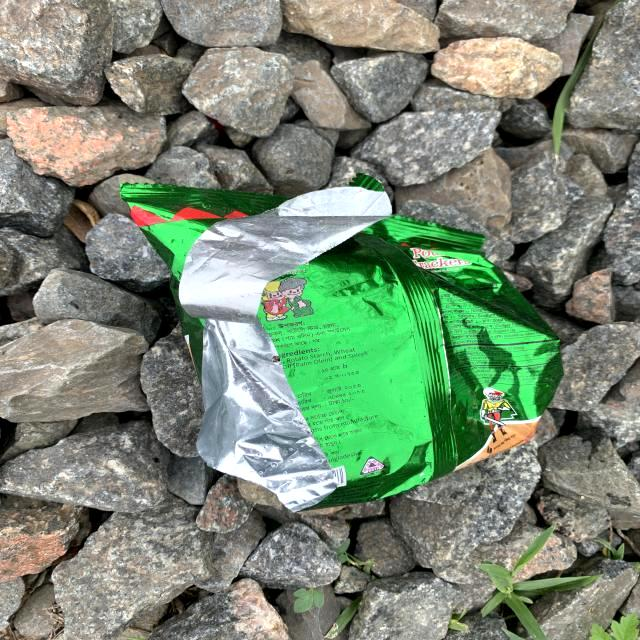packet: (115, 167, 569, 517)
